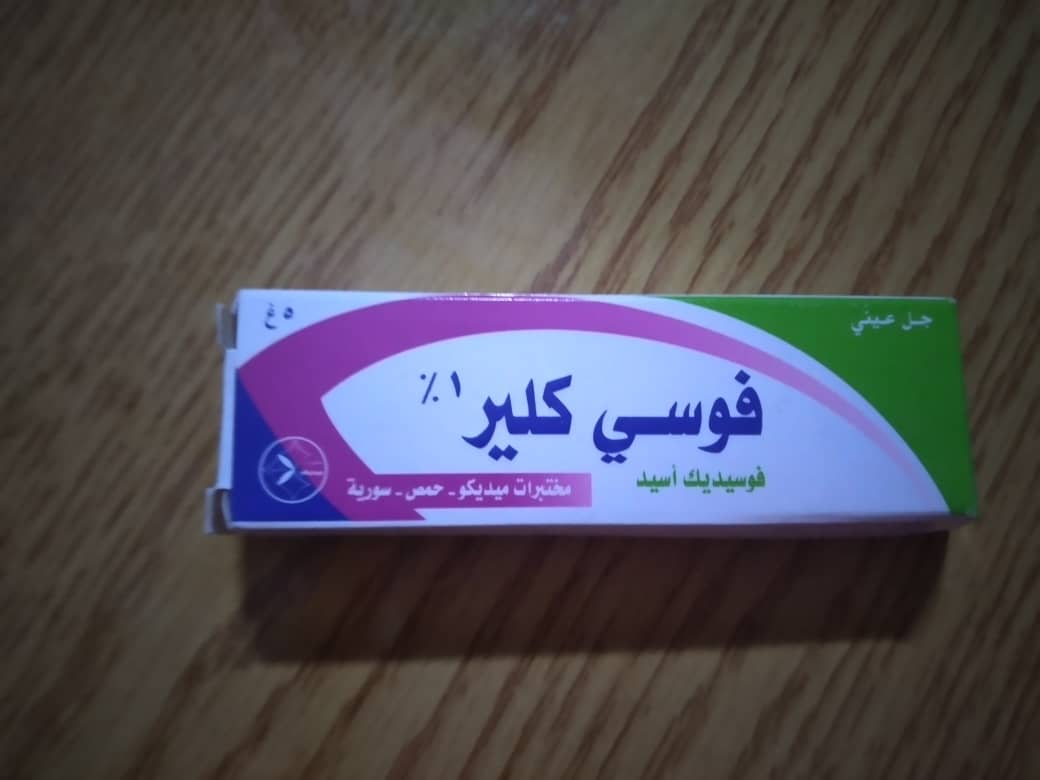Medicine: (202, 262, 968, 572)
